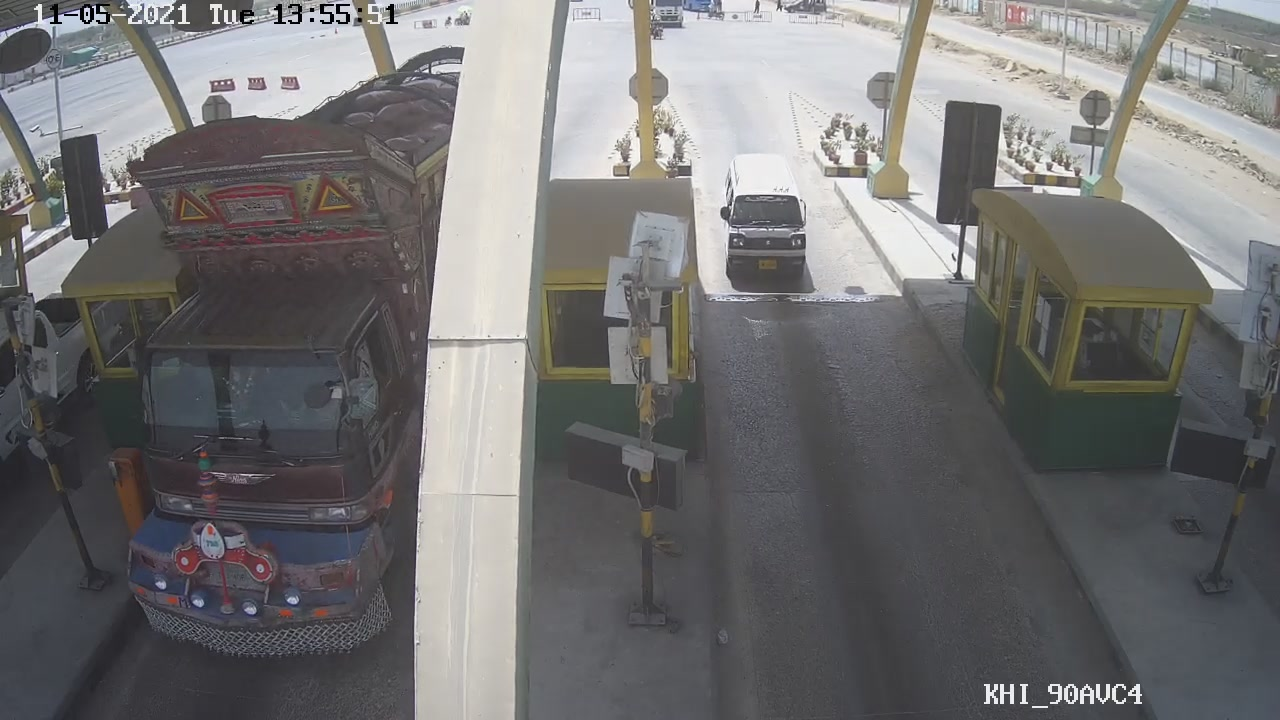F1: (714, 151, 829, 292)
